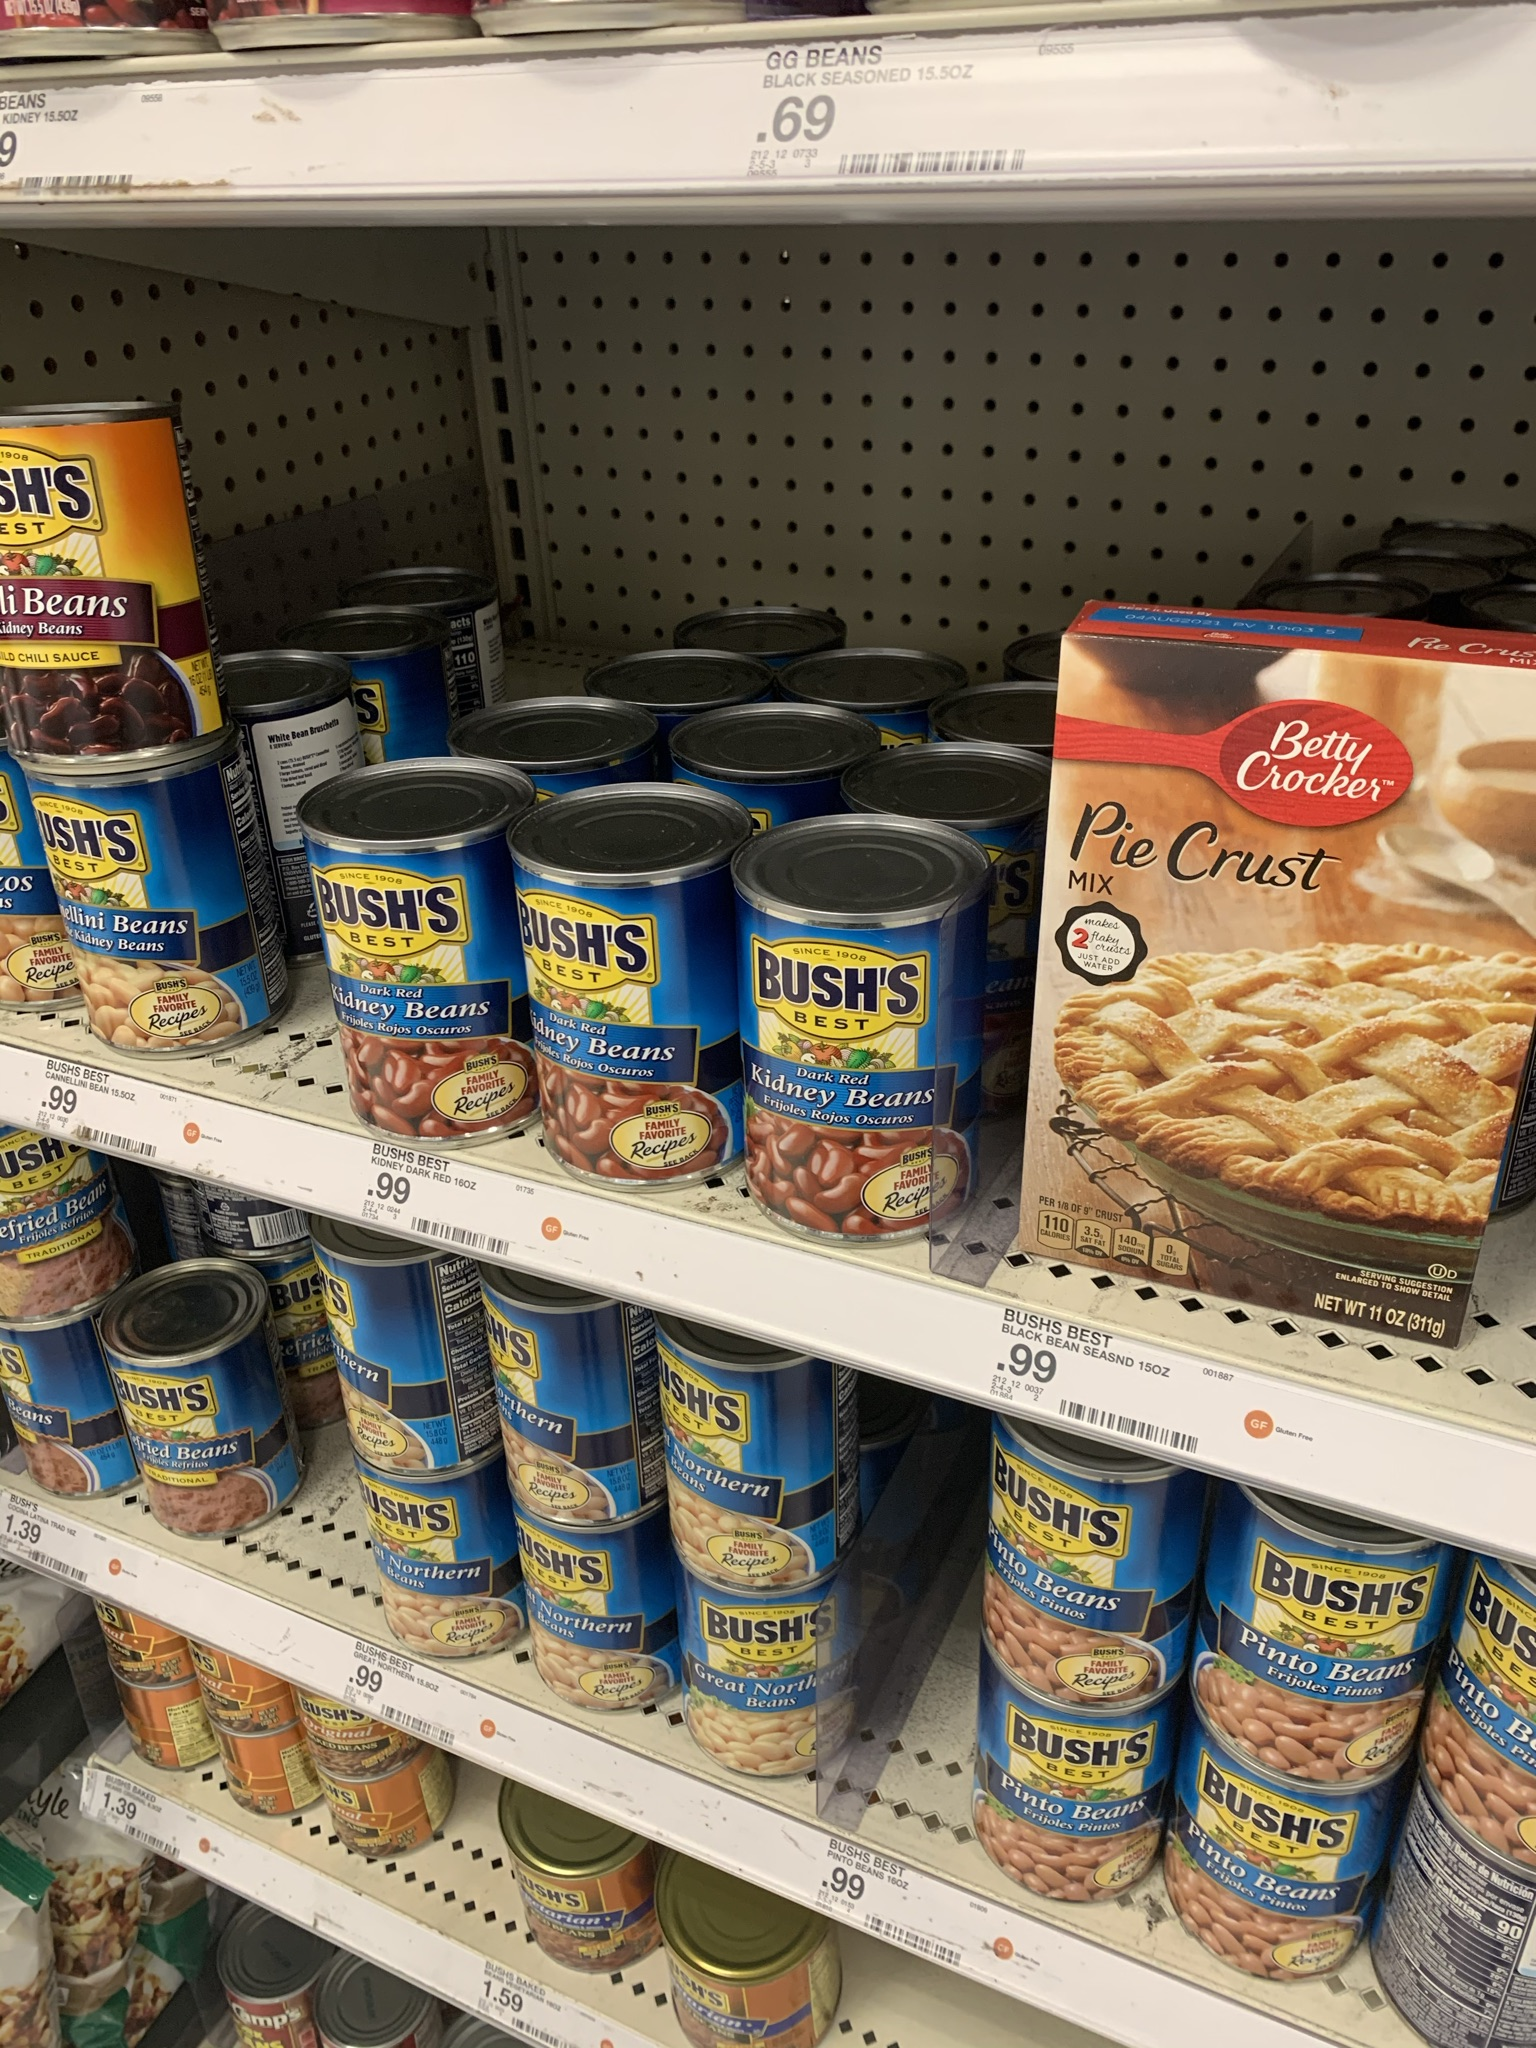box: (1058, 643, 1484, 1209)
can: (752, 871, 937, 1209), (523, 843, 731, 1121), (3, 429, 192, 734), (331, 839, 505, 1068), (1225, 1550, 1417, 1755), (74, 785, 224, 1043), (999, 1472, 1167, 1680), (127, 1300, 266, 1530), (1184, 1792, 1363, 1961), (499, 1292, 632, 1501), (984, 1705, 1141, 1884), (684, 1343, 812, 1558), (345, 1259, 478, 1459), (528, 1534, 663, 1713), (694, 1600, 818, 1772), (671, 1911, 833, 2022), (381, 1479, 490, 1640), (516, 1821, 629, 1938)
